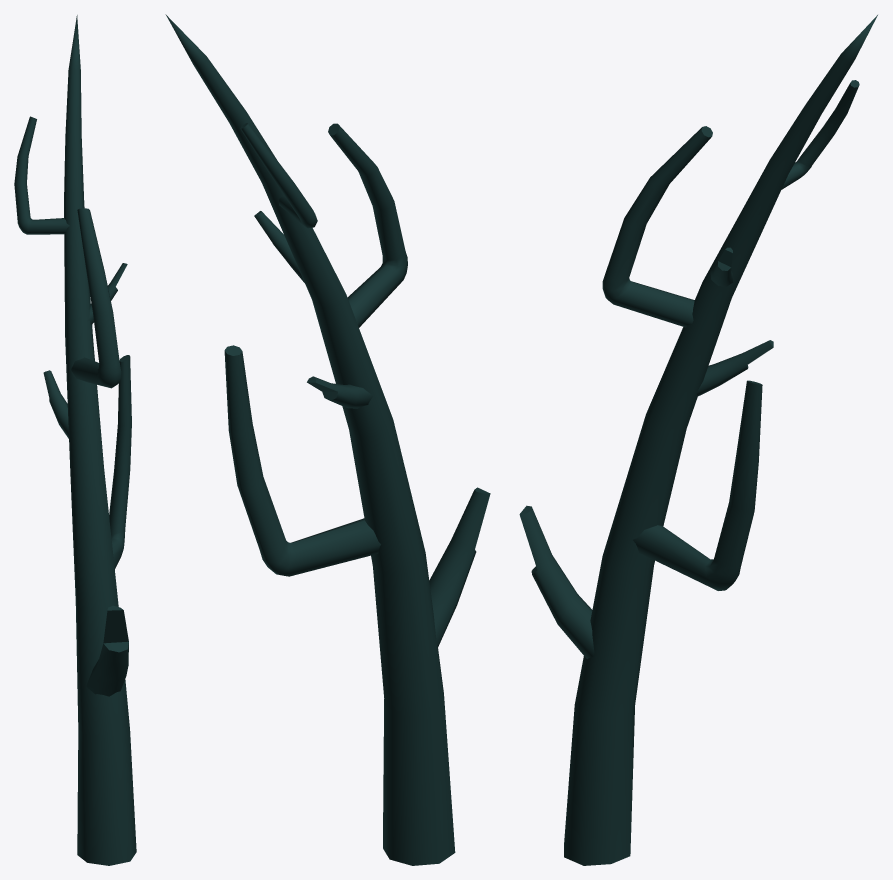
The model's file is tree_Mesh.fbx.
3 views of the same model, side by side, from view 1: azimuth 30°, elevation 25°; view 2: azimuth 150°, elevation 25°; view 3: azimuth 270°, elevation 25° (orthographic). The views are drawn at different scales.
Parts seen in each view (by area): view 1: Cube; view 2: Cube; view 3: Cube.
Part boxes in pixels (x1=…): Cube: x1=14, y1=15, x2=136, y2=865; Cube: x1=165, y1=14, x2=490, y2=865; Cube: x1=519, y1=15, x2=877, y2=865.
Bounding box in the file's own units: 1.42 × 8.52 × 3.12.
